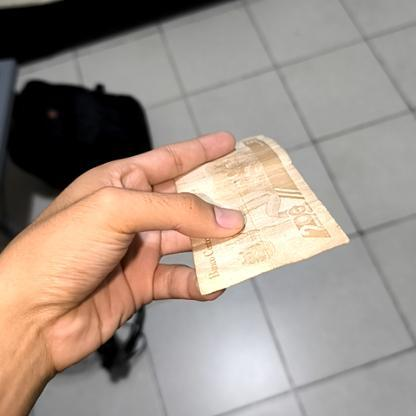twenty-back-vef: (158, 127, 352, 294)
